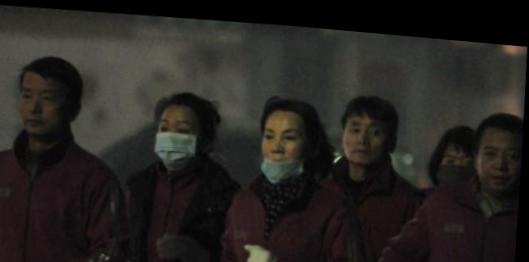NONE: (18, 82, 65, 136), (478, 132, 524, 183), (345, 111, 389, 158)
OK: (154, 110, 206, 164), (437, 139, 483, 186)
WRONG: (255, 114, 317, 176)
